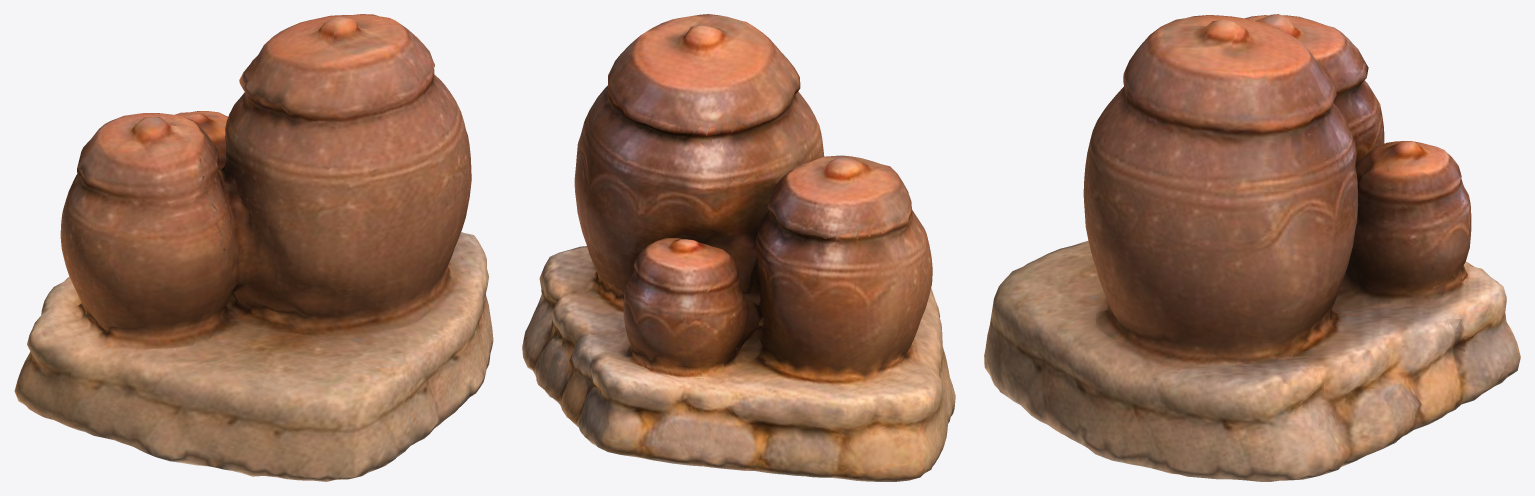
Rendered from jangdok.glb.
The picture shows the model from 3 angles, left to right: view 1: azimuth 30°, elevation 25°; view 2: azimuth 150°, elevation 25°; view 3: azimuth 270°, elevation 25°; orthographic projection. The views are drawn at different scales.
Parts seen in each view (by area): view 1: world; view 2: world; view 3: world.
Part boxes in pixels (x1=…): world: x1=14, y1=14, x2=493, y2=481; world: x1=522, y1=14, x2=955, y2=481; world: x1=984, y1=14, x2=1520, y2=481.
Bounding box in the file's own units: 1.34 × 1.1 × 1.31.
1 material, 1 textured.
